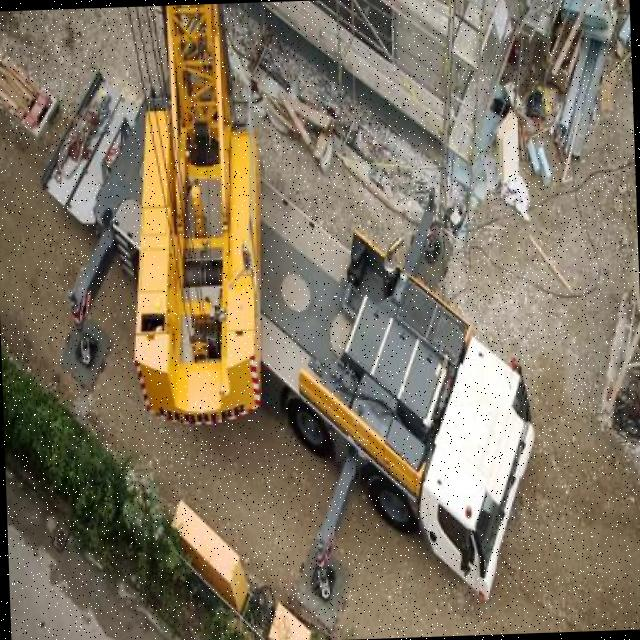Mobile Crane: (39, 0, 539, 632)
